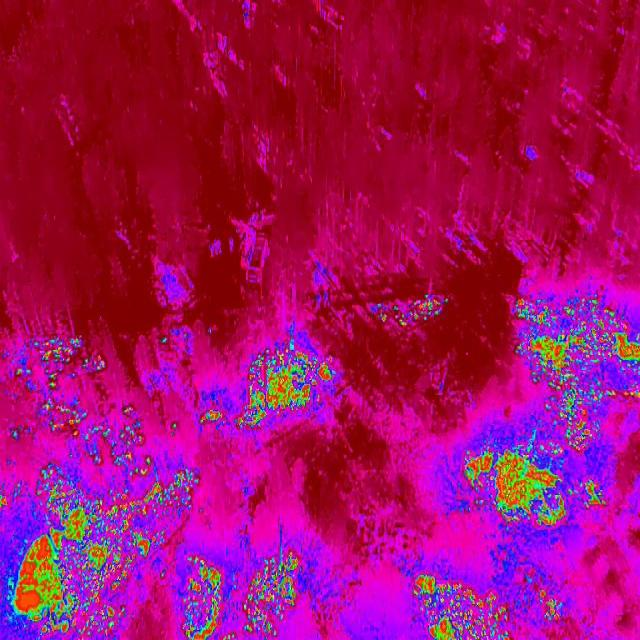fire: (0, 442, 198, 640), (512, 287, 640, 449), (458, 435, 612, 545), (176, 540, 320, 640), (408, 561, 576, 640), (0, 330, 112, 444), (232, 342, 336, 434), (368, 294, 453, 334), (198, 399, 228, 432)
